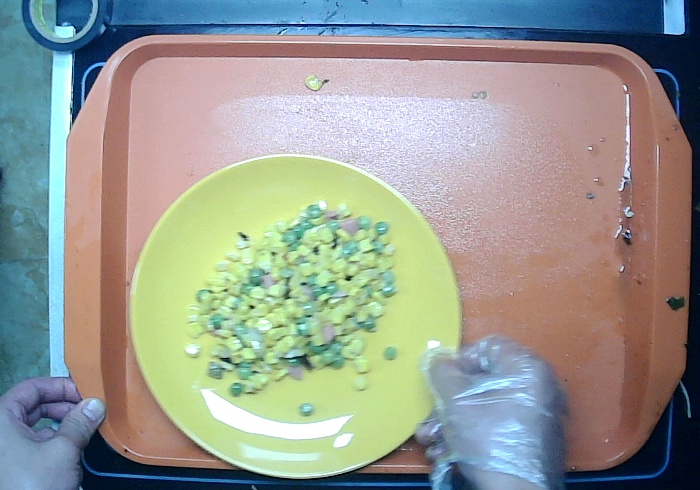HZYJPL-Huang_Se_Yuan_Pan: (125, 152, 465, 481)
